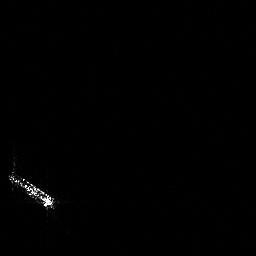ship: (4, 167, 62, 214)
